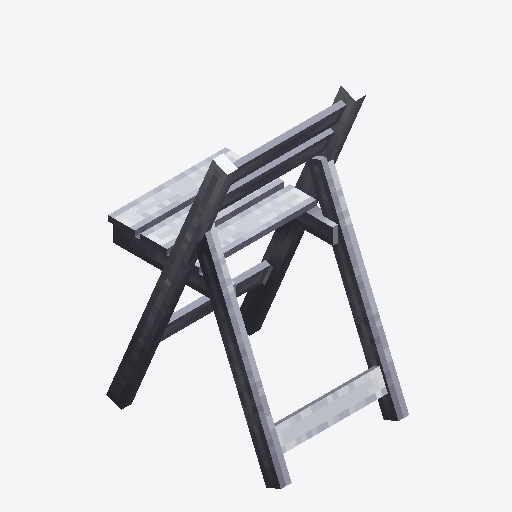
Isometric view (azimuth 45°, elevation 35.3°) of a Minecraft model made of 13 cuboids, textured from the same repository.
Parts seen in each view (by area): back_leg (×2), front_leg (×2), seat_frame (×3), front_top_crosspiece (×2), back_bottom_crosspiece, seat_side_rail (×2), front_bottom_crosspiece.
Part boxes in pixels (x1,y1,x2,y2): back_leg (×2): (196, 156, 408, 488); front_leg (×2): (106, 79, 365, 409); seat_frame (×3): (108, 147, 316, 272); front_top_crosspiece (×2): (219, 100, 345, 211); back_bottom_crosspiece: (274, 366, 387, 453); seat_side_rail (×2): (113, 206, 337, 297); front_bottom_crosspiece: (160, 260, 269, 341).
Size of the model in its own units: 13 by 24.59 by 16.67.